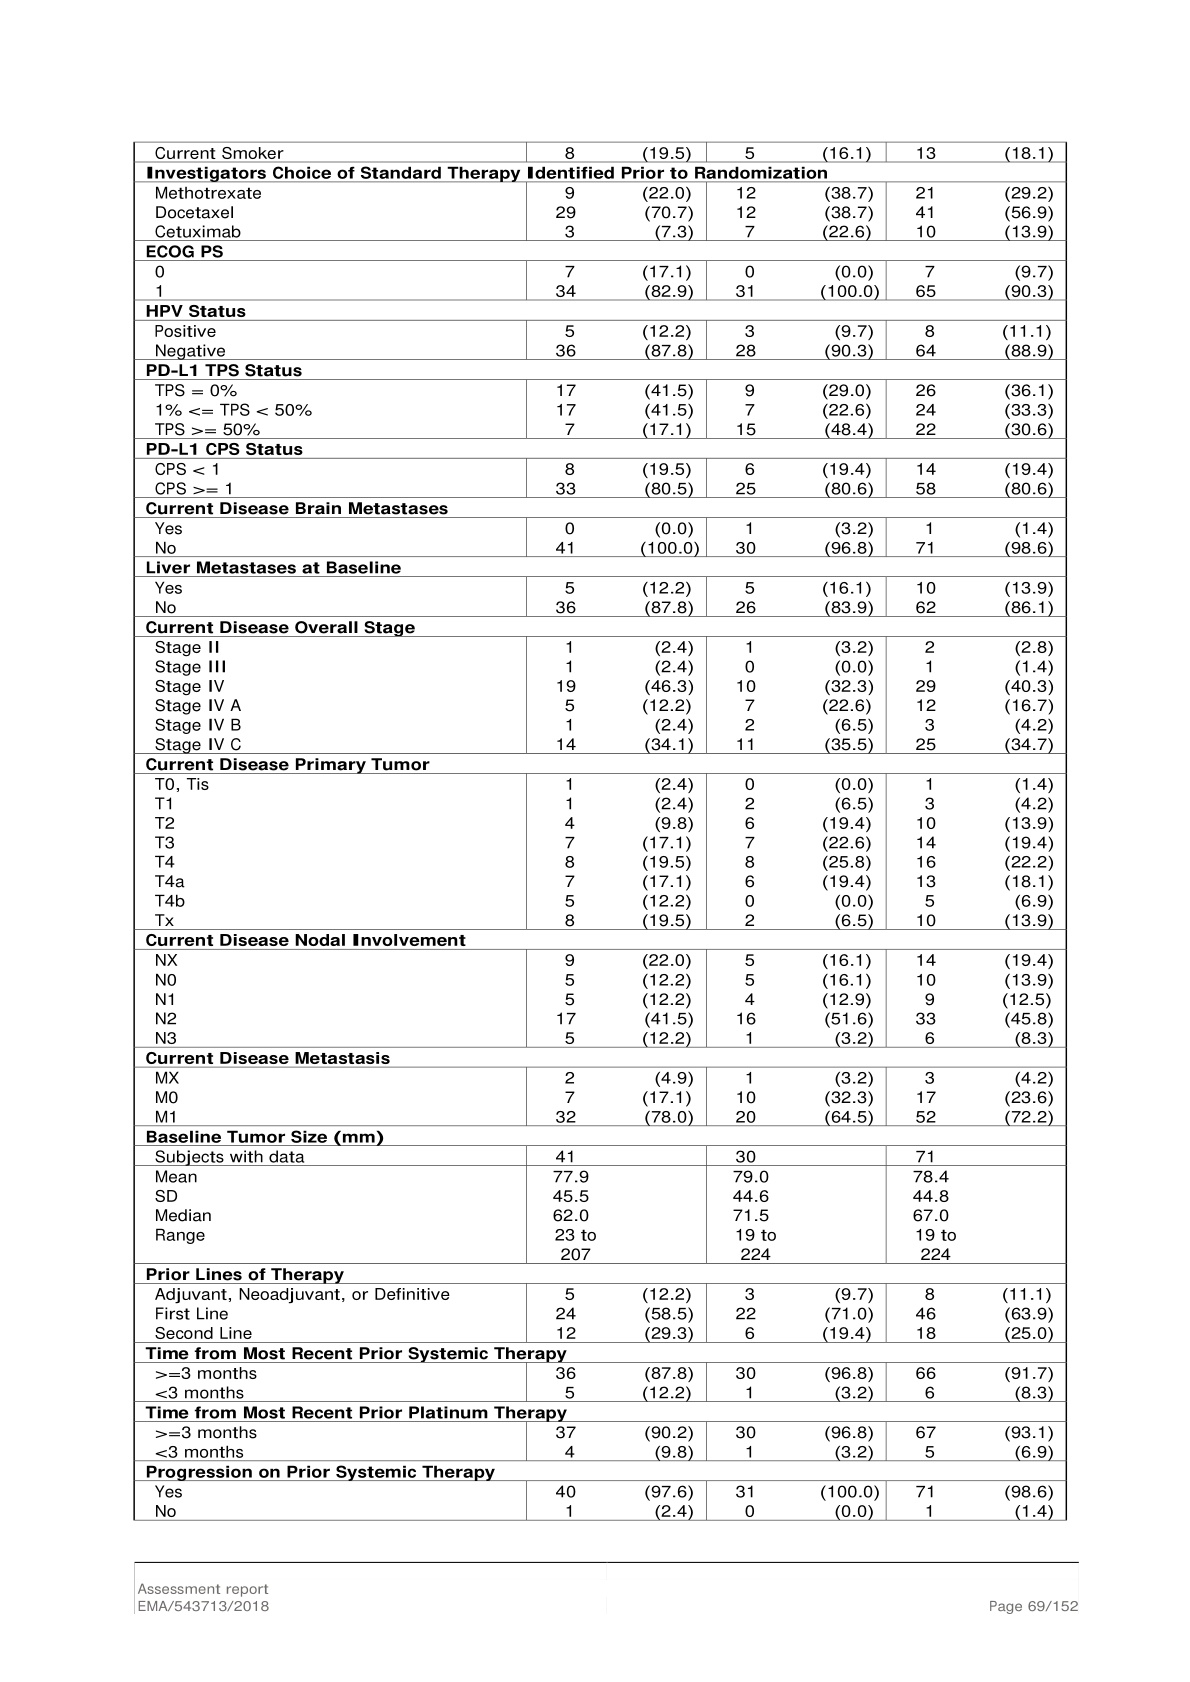merged_cells: (131, 140, 1068, 1521)
